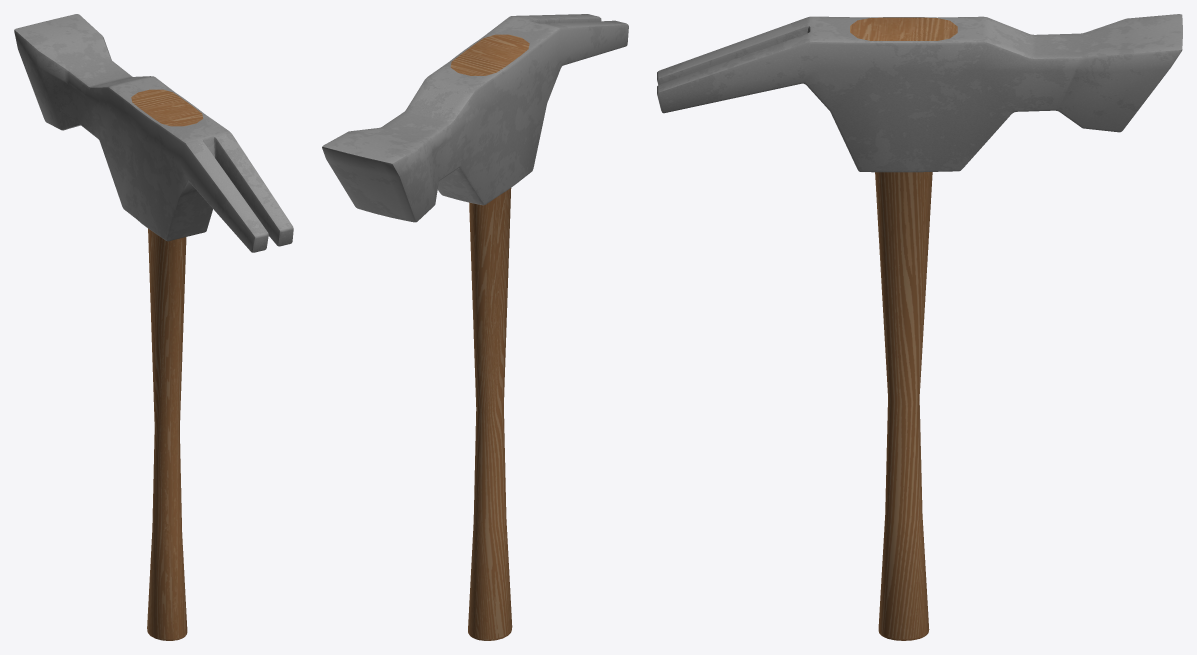
Rendered from hammer.fbx.
3 renders of one model, left to right at view 1: azimuth 30°, elevation 25°; view 2: azimuth 150°, elevation 25°; view 3: azimuth 270°, elevation 25°, orthographic. The views are drawn at different scales.
Parts seen in each view (by area): view 1: hammer; view 2: hammer; view 3: hammer.
Boxes of the visible parts, box(x1,y1,x2,y2) form: hammer: box(14, 14, 293, 640); hammer: box(322, 14, 628, 640); hammer: box(657, 14, 1182, 640).
Size of the model in its own units: 8.28 by 60.7 by 47.92.
